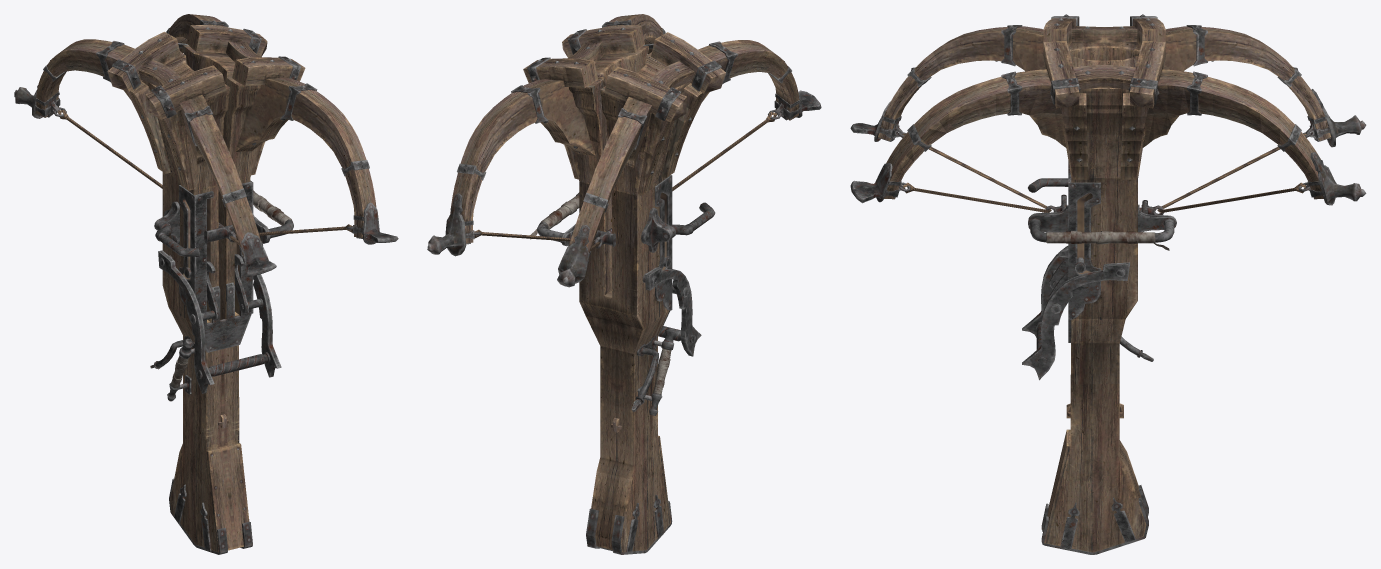
Rendered from tink.glb.
3 views of the same model, side by side, from view 1: azimuth 30°, elevation 25°; view 2: azimuth 150°, elevation 25°; view 3: azimuth 270°, elevation 25° (orthographic). The views are drawn at different scales.
Visible parts, largest first — view 1: WP_A_1510.002; view 2: WP_A_1510.002; view 3: WP_A_1510.002.
Part boxes in pixels (x1,y1,x2,y2): WP_A_1510.002: (14, 14, 398, 554); WP_A_1510.002: (427, 14, 821, 554); WP_A_1510.002: (850, 14, 1366, 554).
Bounding box in the file's own units: 22.69 × 68.87 × 62.96.
Materials: 1 (1 with a texture image).
